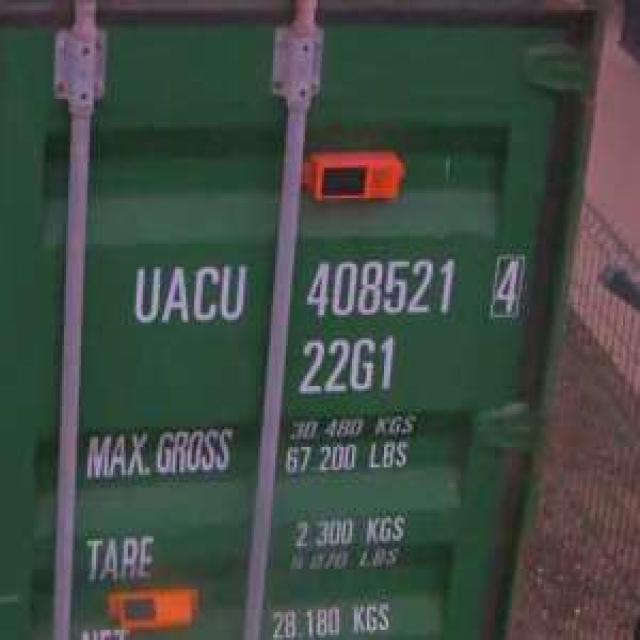dv: (484, 244, 527, 322)
owner: (126, 257, 252, 330)
serial: (301, 252, 458, 322)
size: (292, 330, 399, 401)
